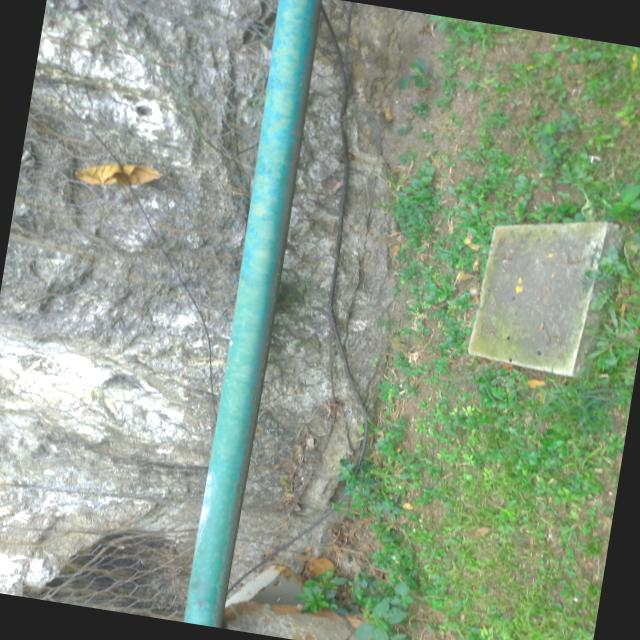gas: (175, 0, 321, 626)
